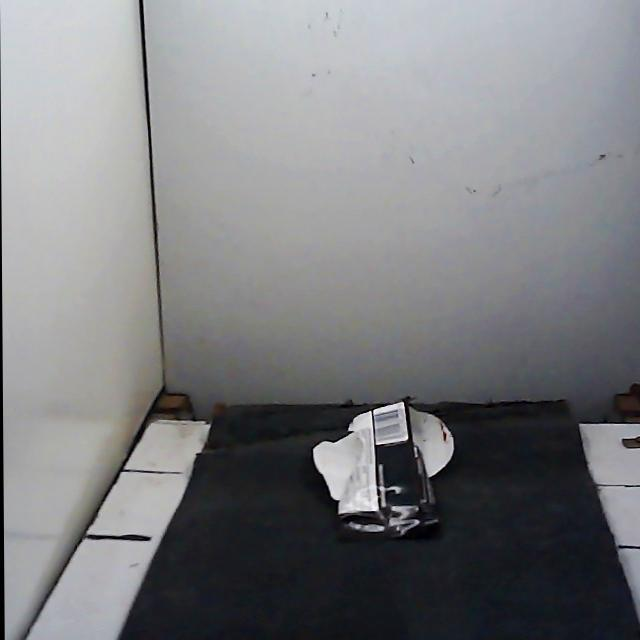plastico: (313, 402, 454, 538)
